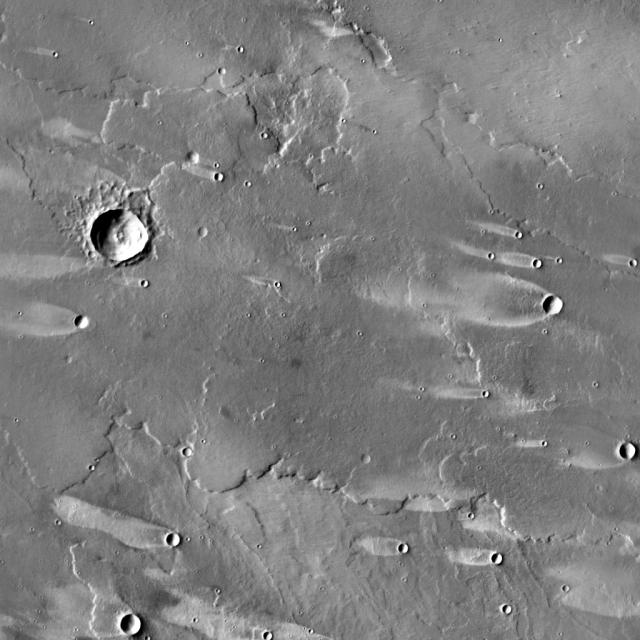crater: (98, 208, 154, 262), (129, 616, 149, 636), (550, 296, 570, 314), (627, 444, 640, 460), (84, 315, 98, 329), (174, 534, 188, 548), (194, 152, 206, 165), (497, 551, 509, 563), (206, 228, 216, 238), (370, 452, 379, 462), (407, 543, 417, 552), (191, 449, 200, 458), (148, 280, 158, 288), (510, 604, 520, 612), (223, 174, 231, 182), (95, 252, 103, 260), (72, 356, 80, 364), (537, 260, 545, 268), (226, 68, 233, 76), (272, 634, 281, 640), (482, 384, 489, 390), (516, 225, 522, 231)
